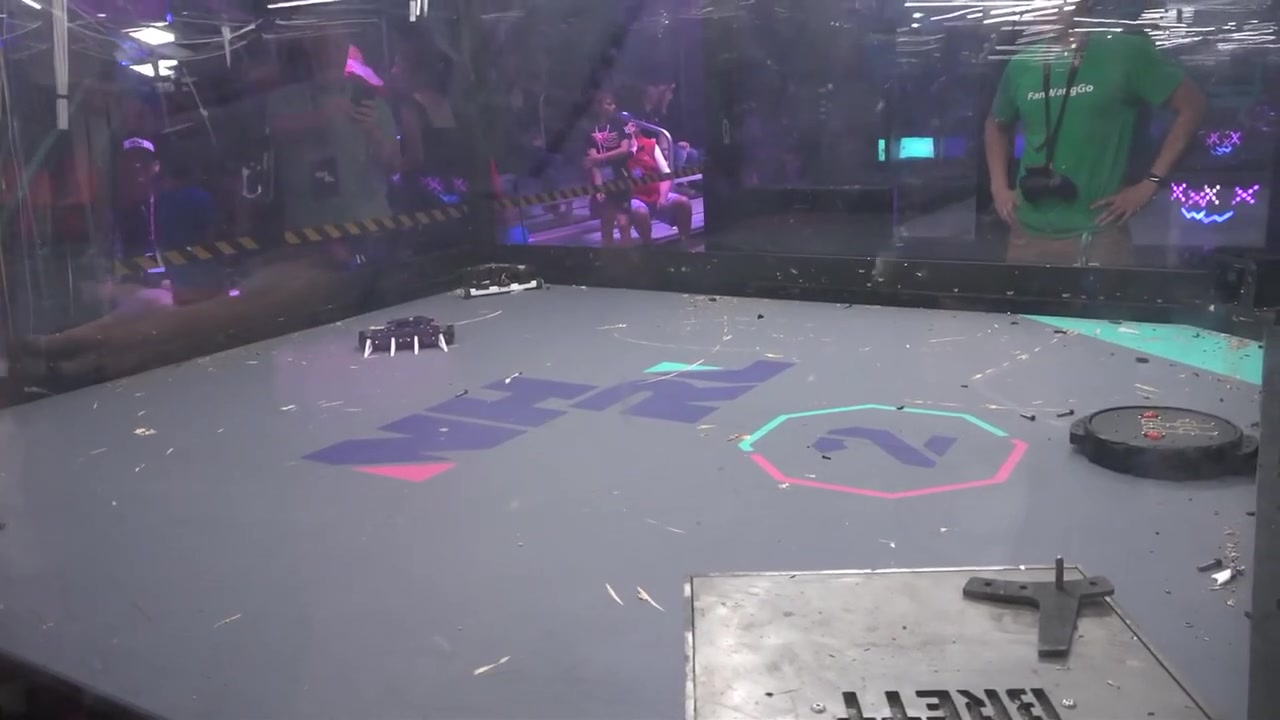combatbot: (1069, 405, 1258, 482), (356, 315, 456, 359), (459, 266, 545, 294)
housebot: (678, 563, 1210, 720)
